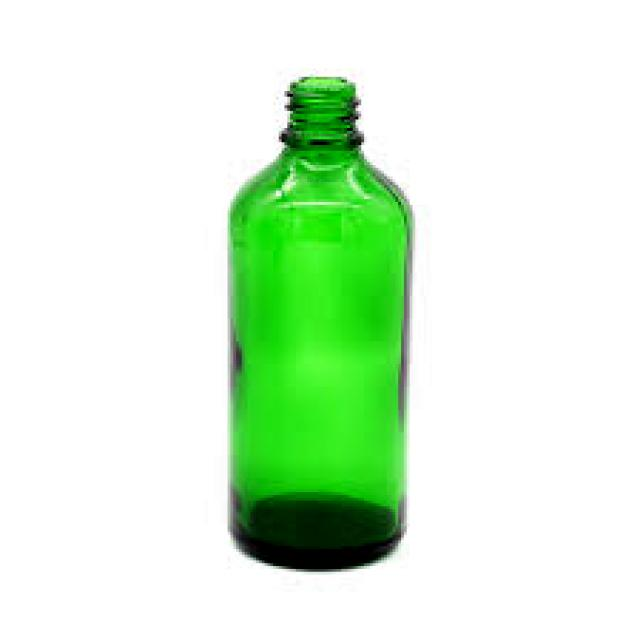Glass: (222, 69, 415, 573)
